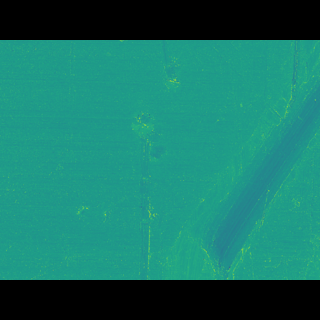Loch: (157, 70, 320, 249), (122, 141, 162, 250), (126, 120, 168, 160), (154, 81, 186, 108)
